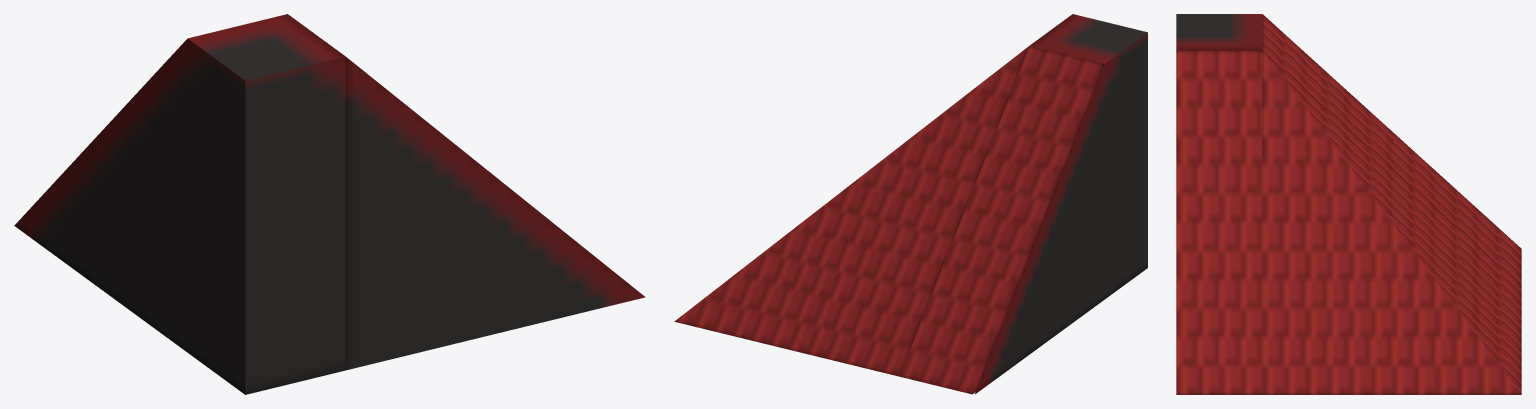
File: Roof_Corner_1.fbx
The picture shows the model from 3 angles, left to right: view 1: azimuth 30°, elevation 25°; view 2: azimuth 150°, elevation 25°; view 3: azimuth 270°, elevation 25°; orthographic projection. The views are drawn at different scales.
Visible parts, largest first — view 1: Roof_Corner_1; view 2: Roof_Corner_1; view 3: Roof_Corner_1.
Part boxes in pixels (x1,y1,x2,y2): Roof_Corner_1: [14, 14, 645, 394]; Roof_Corner_1: [674, 14, 1147, 394]; Roof_Corner_1: [1176, 14, 1521, 394].
Size of the model in its own units: 400 by 300 by 400.
1 material, 1 textured.
